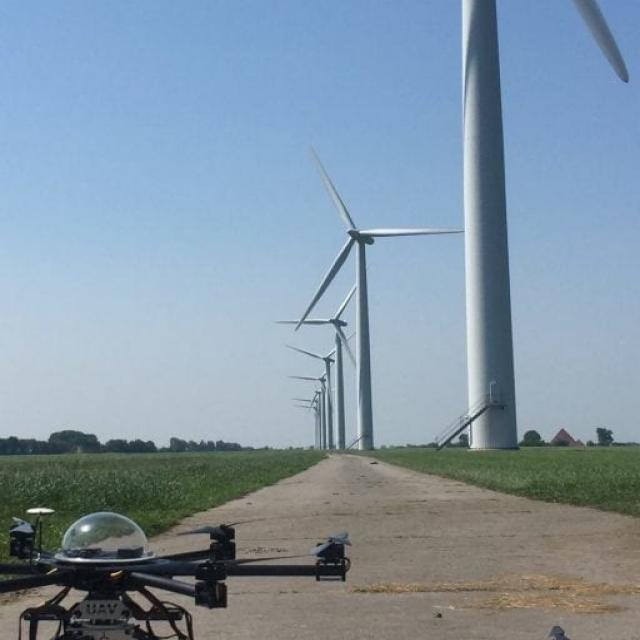drone: (0, 480, 391, 640)
